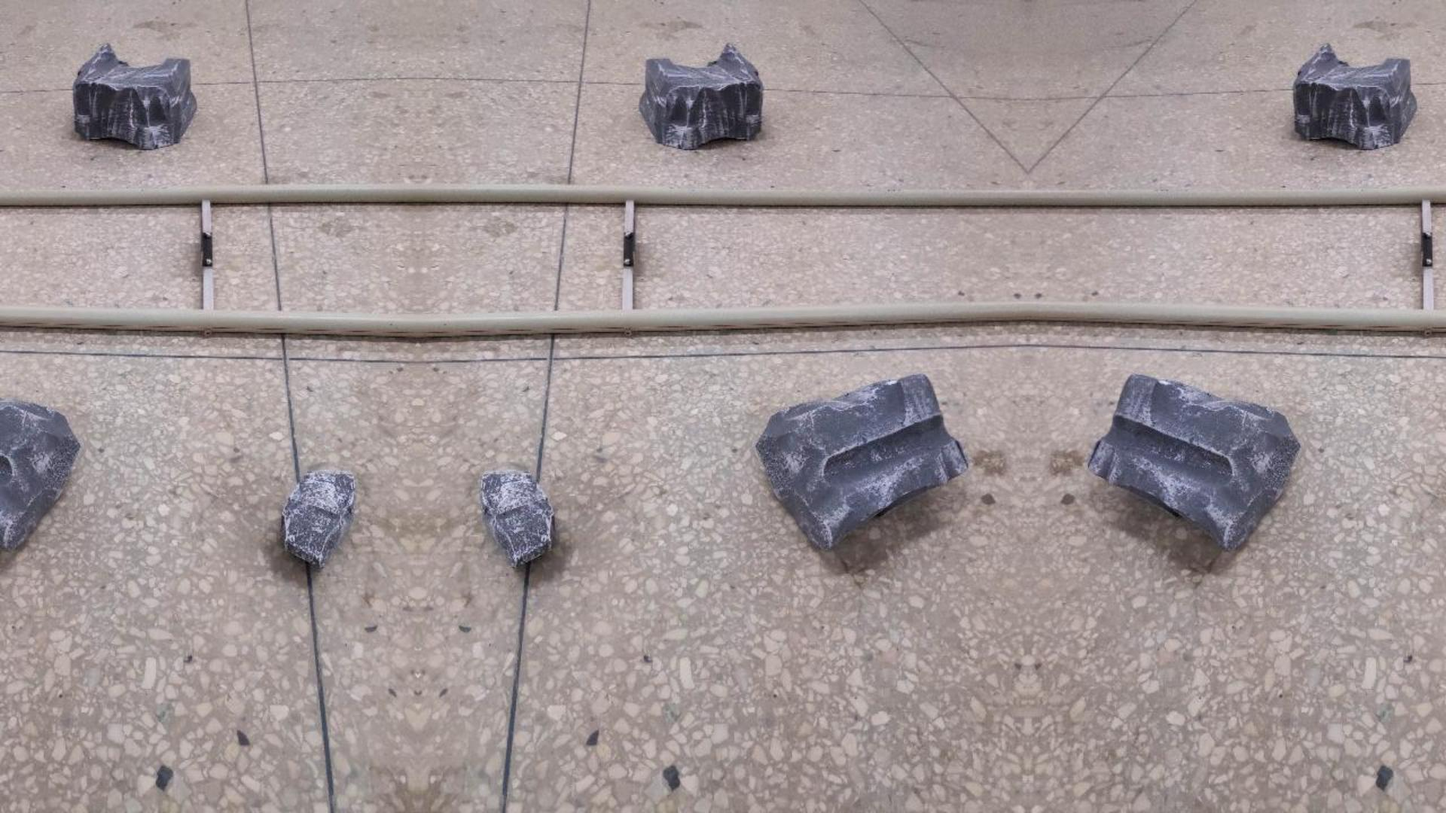rock: (756, 374, 967, 548), (1088, 375, 1299, 549), (639, 44, 763, 149), (72, 44, 195, 149), (1293, 44, 1415, 148), (0, 399, 79, 550), (281, 470, 356, 568), (480, 470, 554, 567)
